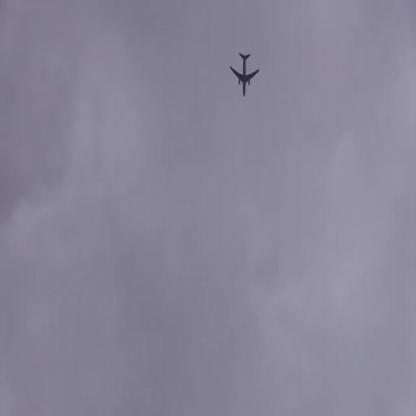CIV_Plane: (227, 46, 259, 97)
